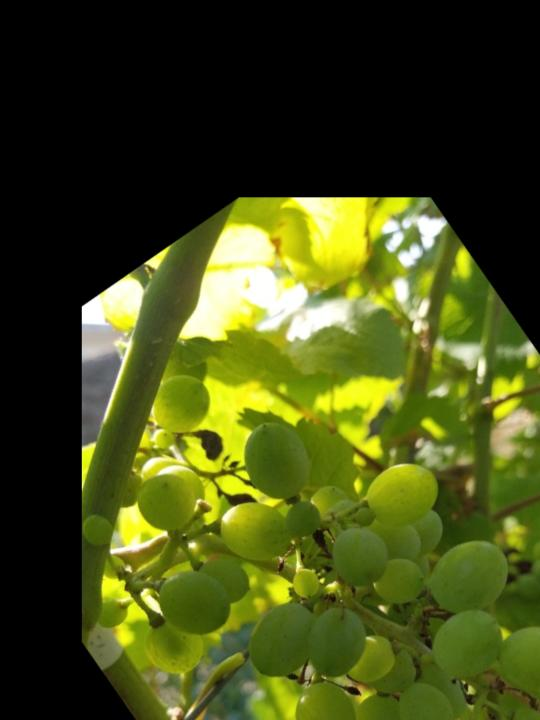grape: (4, 275, 540, 720)
